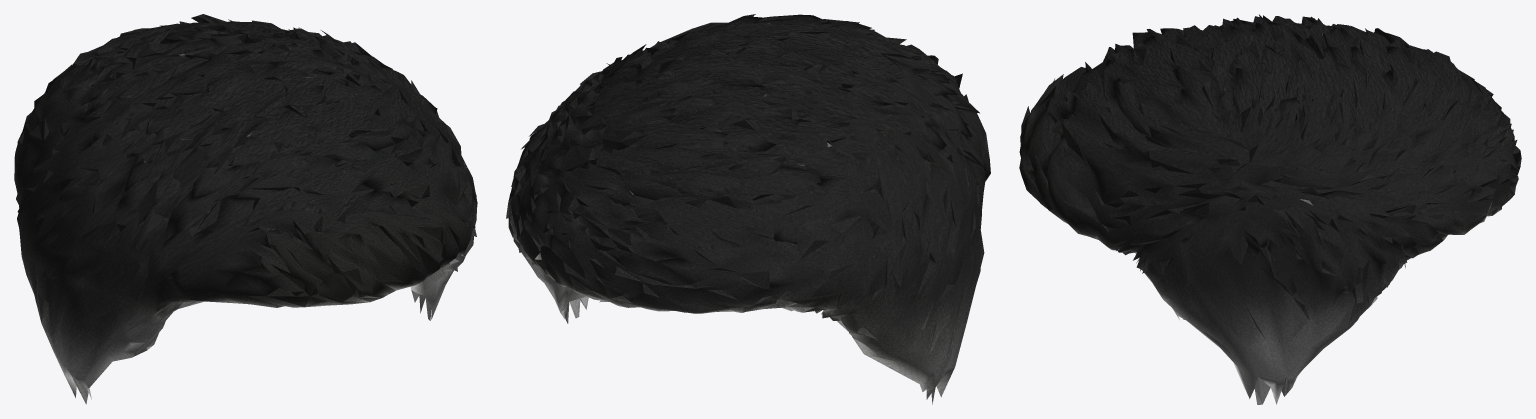
Rendered from Meshy_AI__0823201911_texture.glb.
3 views of the same model, side by side, from view 1: azimuth 30°, elevation 25°; view 2: azimuth 150°, elevation 25°; view 3: azimuth 270°, elevation 25° (orthographic). The views are drawn at different scales.
Visible parts, largest first — view 1: mesh_node; view 2: mesh_node; view 3: mesh_node.
Boxes of the visible parts, x1,y1,x2,y2 form: mesh_node: [14, 14, 477, 404]; mesh_node: [506, 14, 990, 404]; mesh_node: [1019, 14, 1521, 404].
Bounding box in the file's own units: 1.7 × 1.25 × 2.
Materials: 1 (1 with a texture image).
